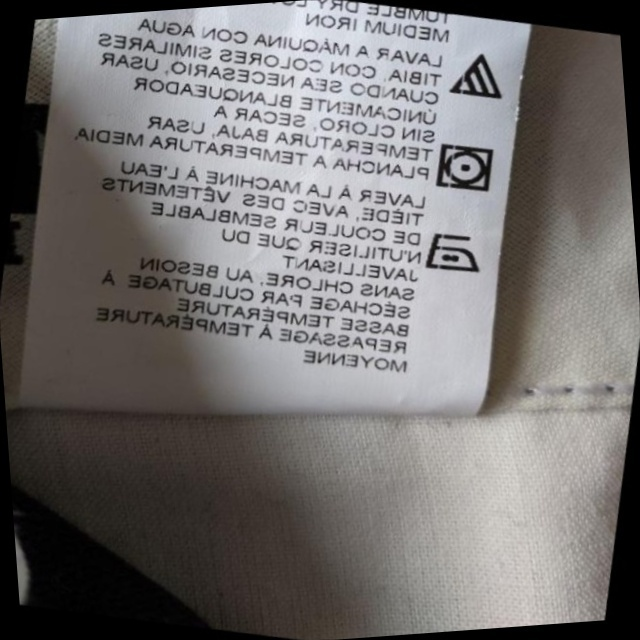iron_medium: (418, 222, 484, 279)
non_chlorine_bleach: (440, 41, 512, 112)
tumble_dry_low: (429, 134, 504, 200)
